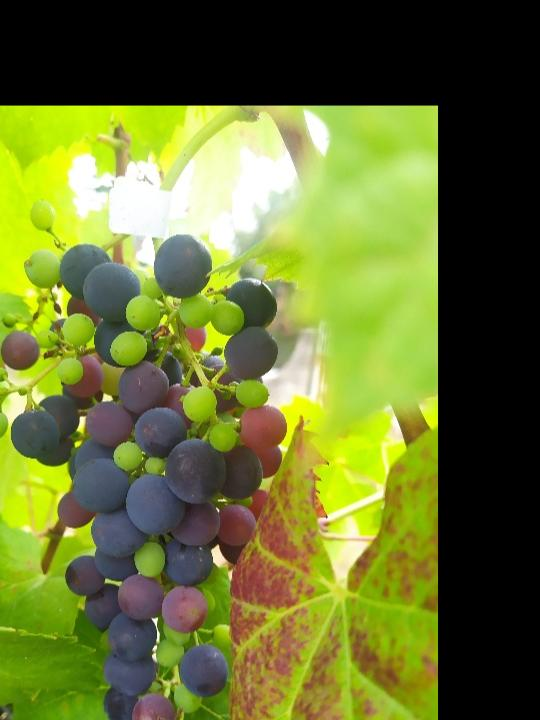grape: (0, 198, 287, 720)
